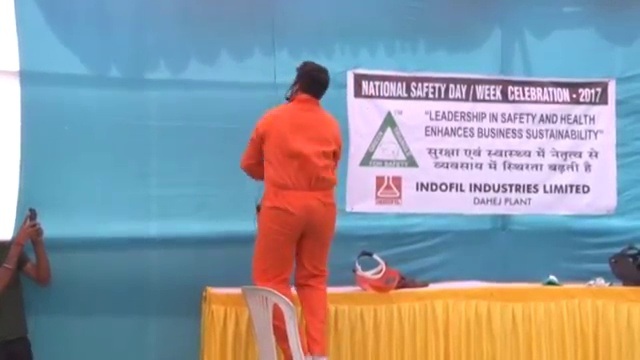helmet_off: (288, 60, 330, 104)
person: (241, 57, 346, 360), (1, 212, 51, 360)
